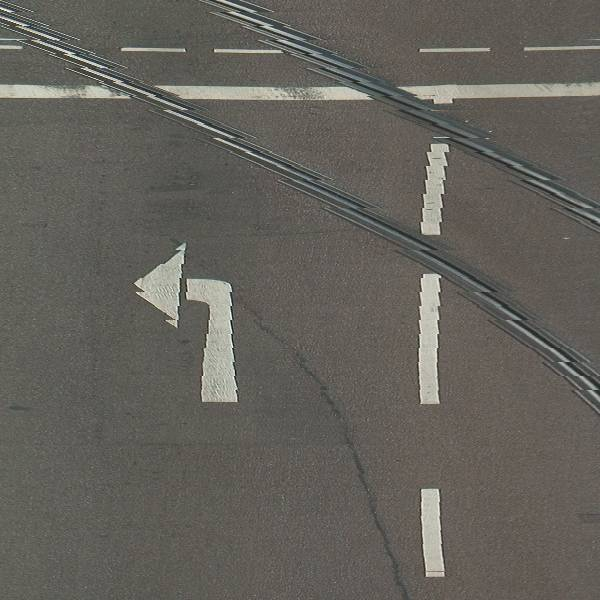road_damage: (30, 29, 580, 387), (305, 364, 411, 595)
